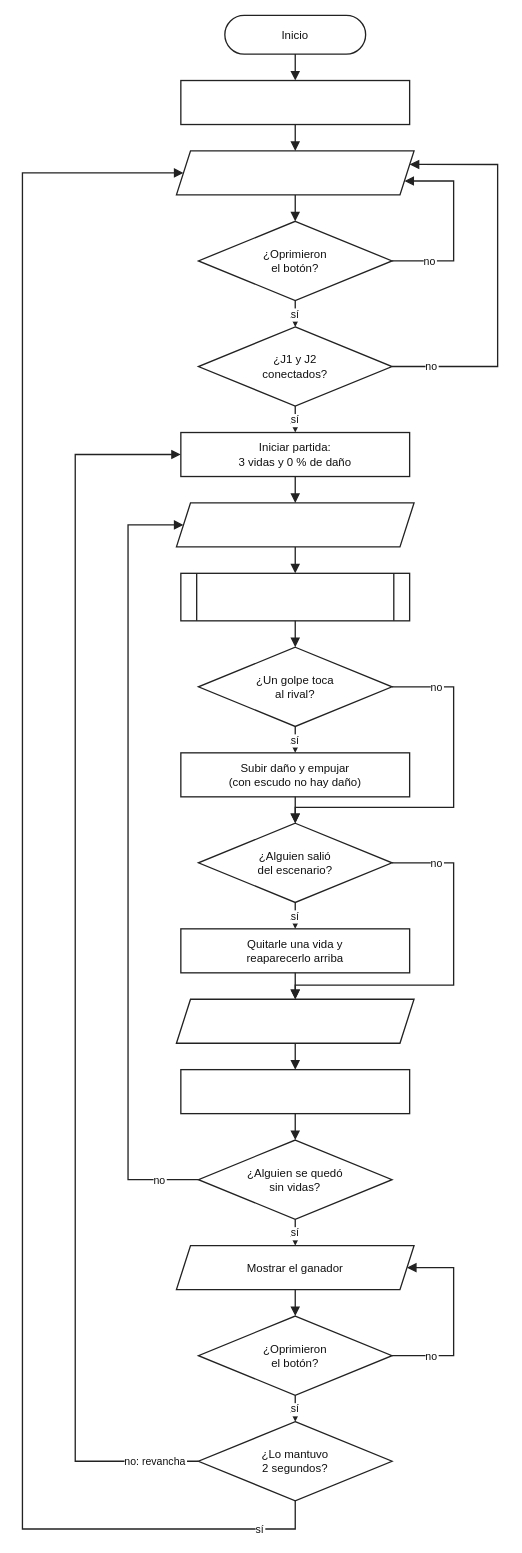
Image size: 522x1553. Some labels were removed from this diagram. Here are the shapes that lost their labels. From the top down, the centre of each, then its label:
[295,102]: Iniciar UART, pantalla y sonido
[294,172]: Mostrar pantalla de inicio
[294,524]: Leer los mandos de J1 y J2
[295,596]: Actualizar a J1 y a J2 (diagrama 2)
[294,1021]: Dibujar y enviar a la pantalla
[295,1091]: Esperar a completar 1/60 s
